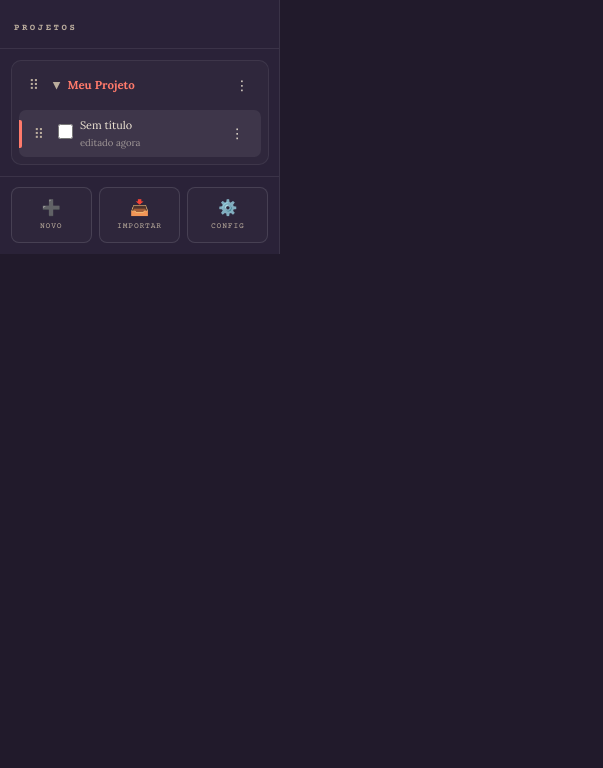
ProjectsSidebar + useProjects › archive feature › shows the all-archived empty state once the only project is archived
# The default seeded project is "Meu Projeto".
Click the button named "Mais opções do projeto Meu Projeto": (242, 86) [227,71,257,101]
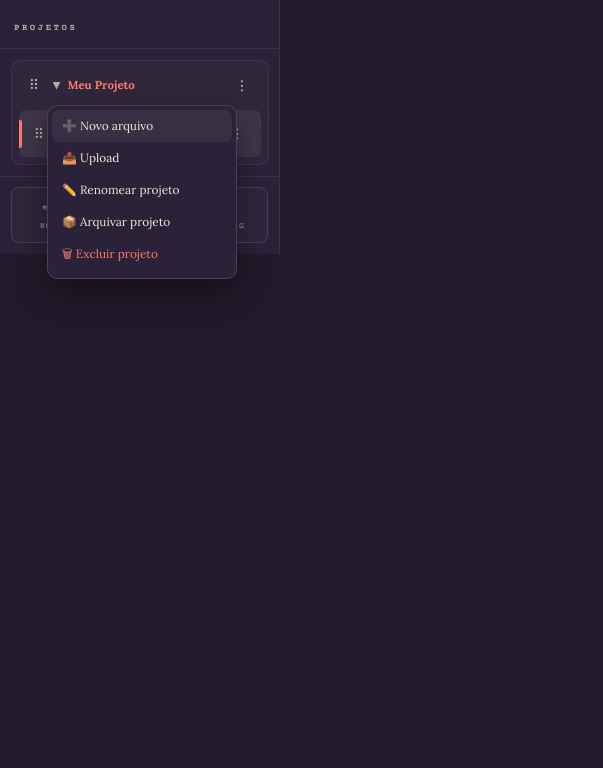
Click the menu item "📦 Arquivar projeto": (142, 221) [52,205,232,237]
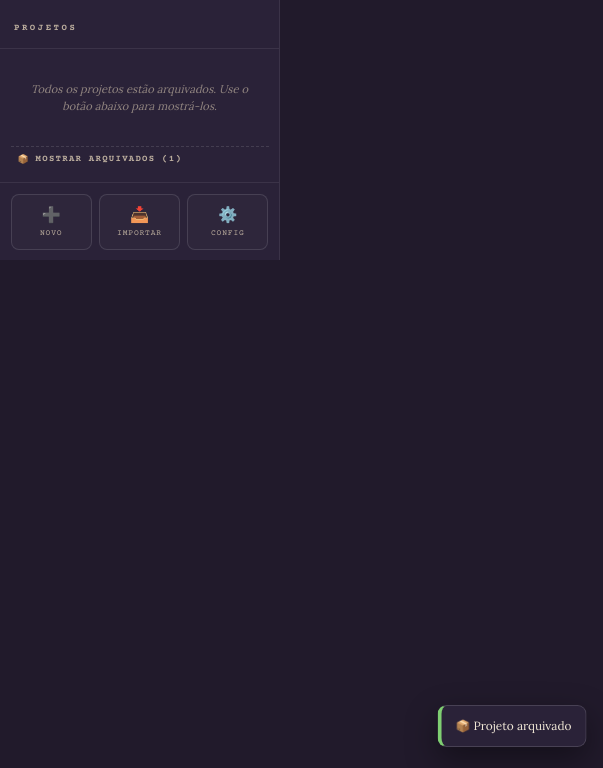
Result: the text "Todos os projetos estão arquivados. Use o botão abaixo para mostrá-los." is shown at [31,82,248,113]
